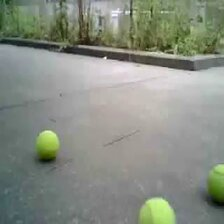tennis: (138, 196, 176, 224), (37, 130, 59, 158), (208, 163, 224, 201)
